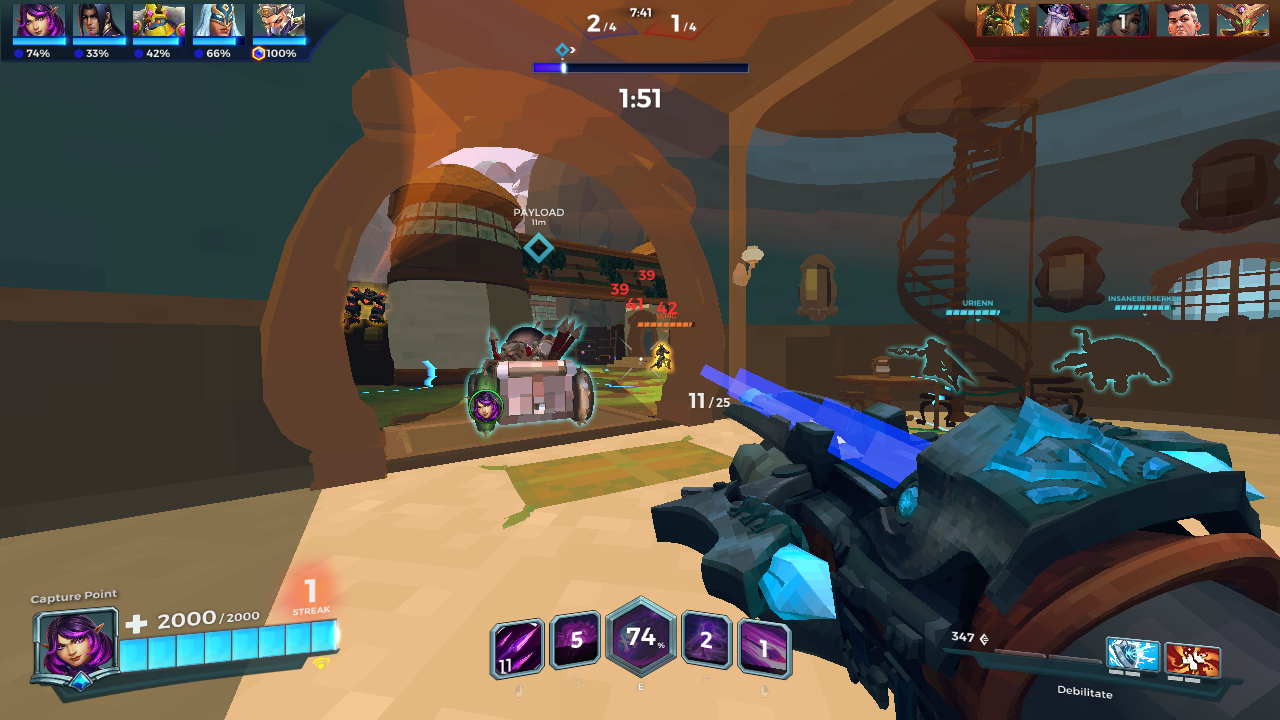model: (346, 284, 389, 332), (649, 338, 673, 371)
